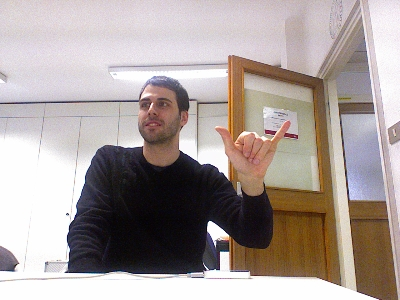六六六: (214, 119, 291, 175)
